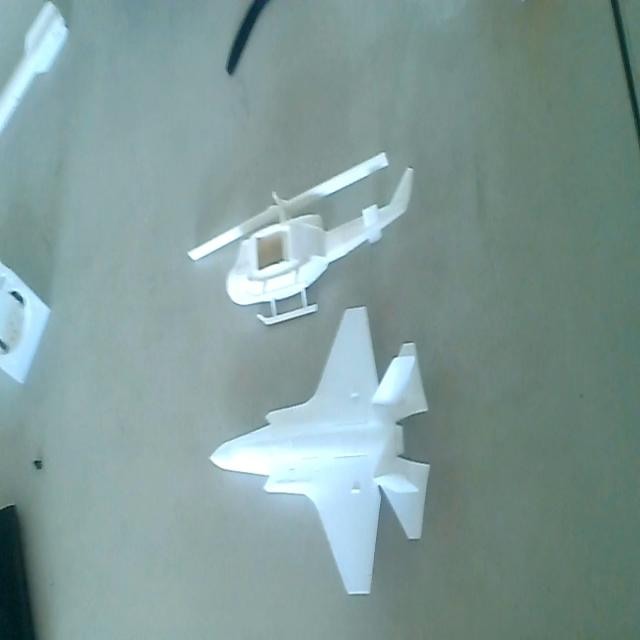Helicopter: (186, 146, 414, 331)
Jet: (210, 300, 431, 613)
Rocket: (0, 0, 79, 139)
